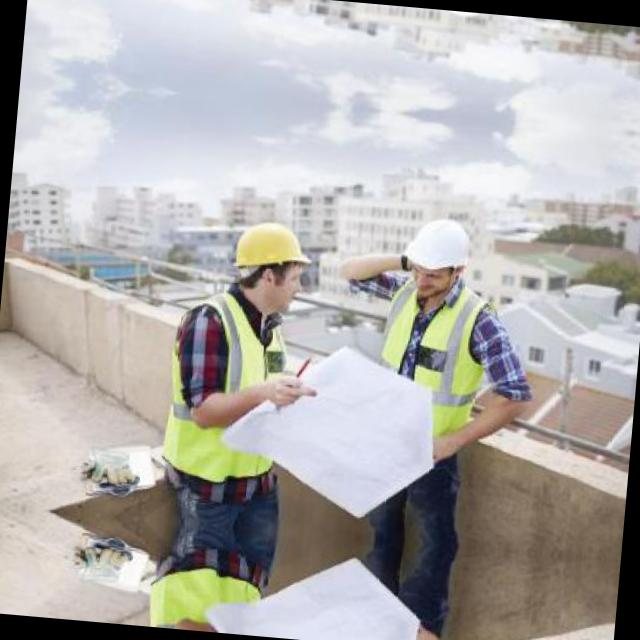helmet: (226, 212, 322, 312), (393, 207, 481, 305)
